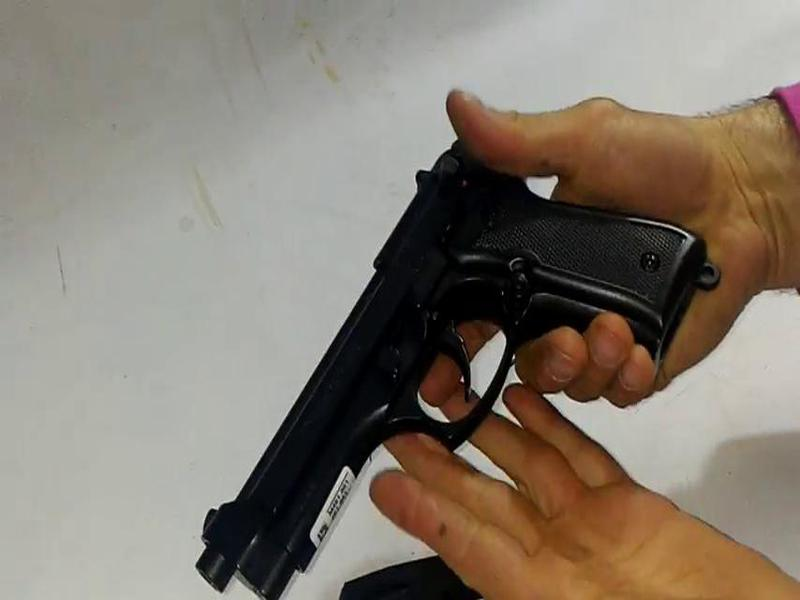Pistola: (210, 105, 718, 600)
